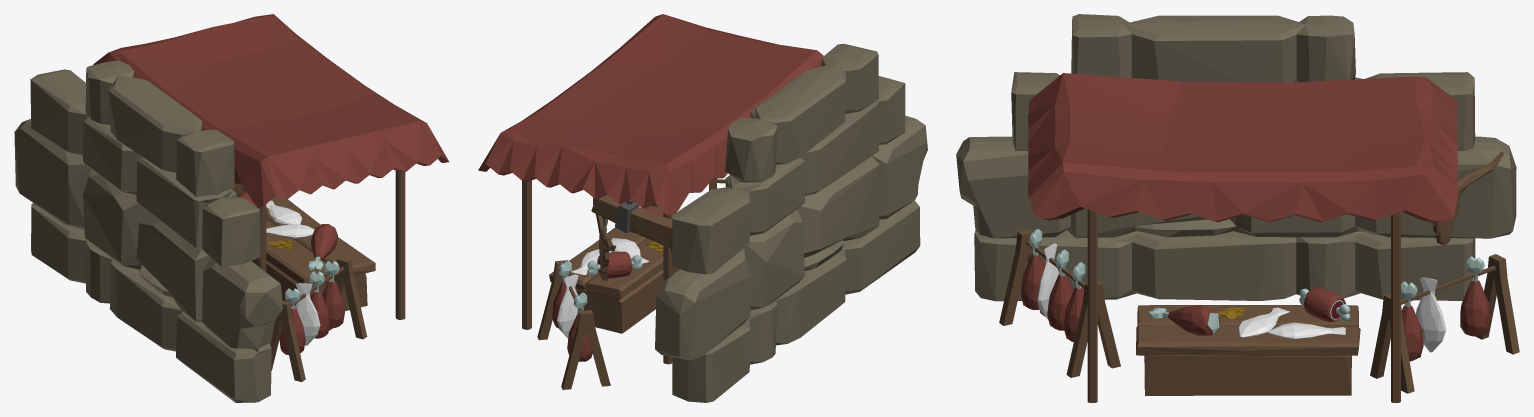
Rendered from butchers.glb.
3 views of the same model, side by side, from view 1: azimuth 30°, elevation 25°; view 2: azimuth 150°, elevation 25°; view 3: azimuth 270°, elevation 25° (orthographic). The views are drawn at different scales.
Visible parts, largest first — view 1: Wall, botcher market, rack2; view 2: Wall, botcher market, rack, WallMount; view 3: botcher market, Wall, rack, rack2, WallMount.
Boxes of the visible parts, x1,y1,x2,y2 form: Wall: (14,60,282,402); botcher market: (93,14,448,319); rack2: (270,257,367,381); Wall: (655,43,927,402); botcher market: (478,14,823,364); rack: (537,260,610,389); WallMount: (591,195,672,280); botcher market: (1028,73,1457,402); Wall: (956,14,1516,301); rack: (1370,254,1519,393); rack2: (999,229,1120,377); WallMount: (1431,151,1504,245).
Bounding box in the file's own units: 2.44 × 2.2 × 4.19.
